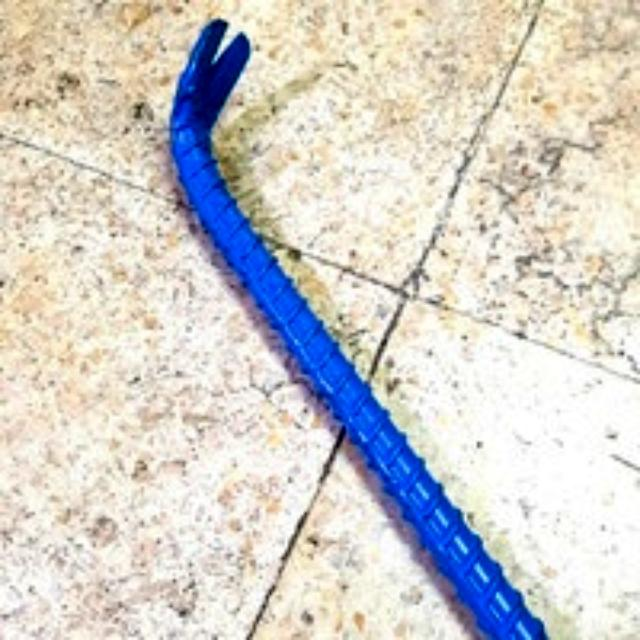crow bar: (168, 16, 537, 640)
